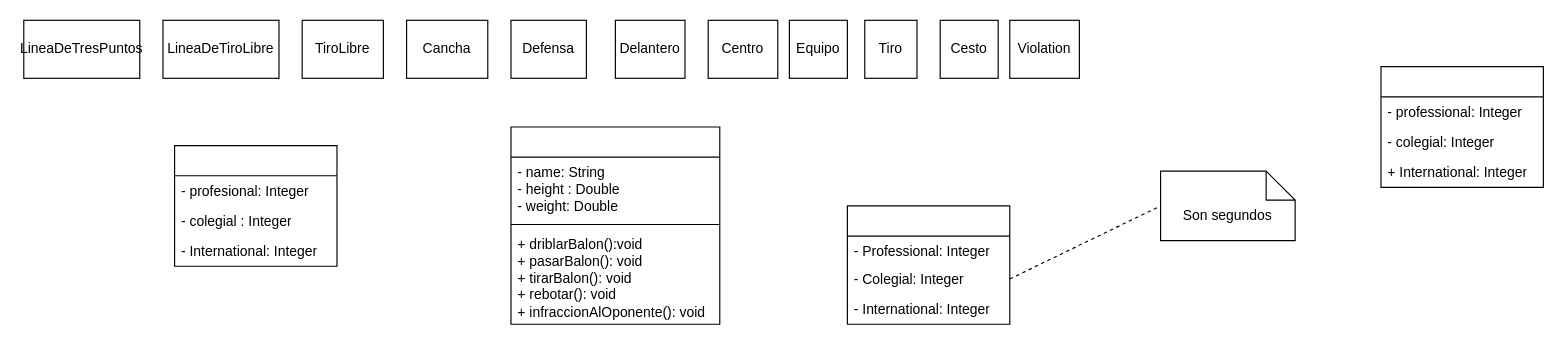
This 1564x348 diagram has some shape labels left out. The box of each missing label's shape, as (x1, y1, x2, y2) in pixels:
Ball: (510, 126, 720, 324)
Duration: (173, 144, 337, 266)
GameStopwatch: (1380, 66, 1543, 187)
LapsoDeTiro: (846, 205, 1010, 324)
